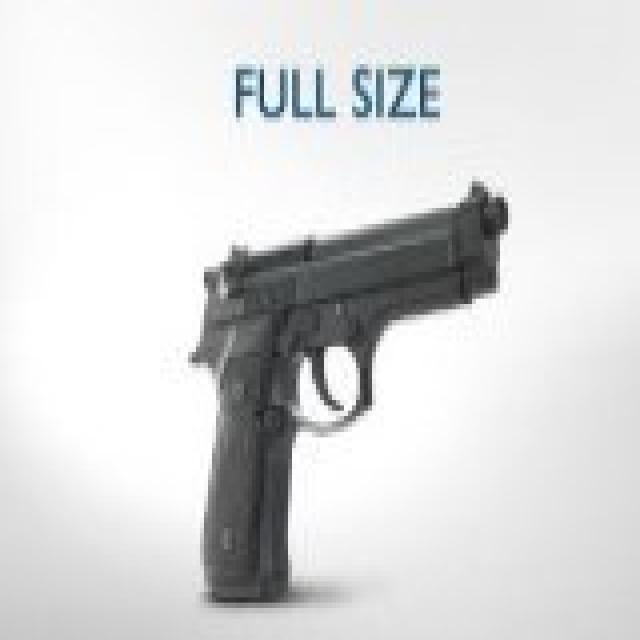Gun: (177, 185, 531, 595)
